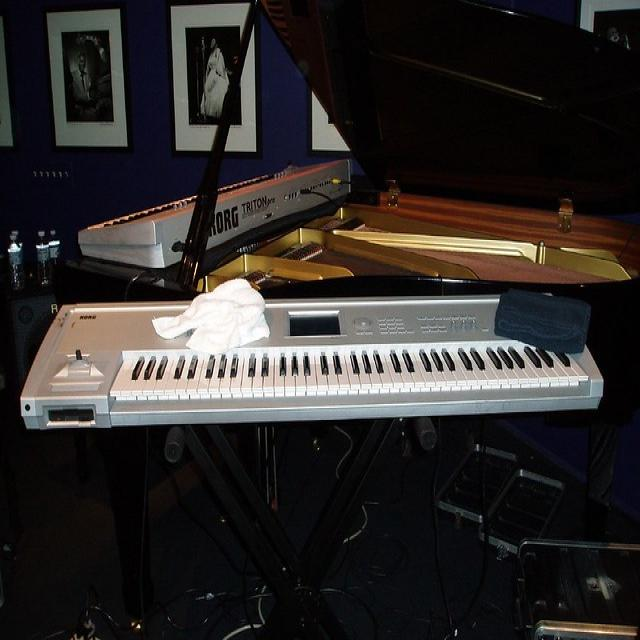musical keyboard: (18, 288, 608, 437), (76, 148, 354, 278)
piano: (92, 0, 640, 640), (13, 285, 615, 445), (75, 151, 353, 280)
